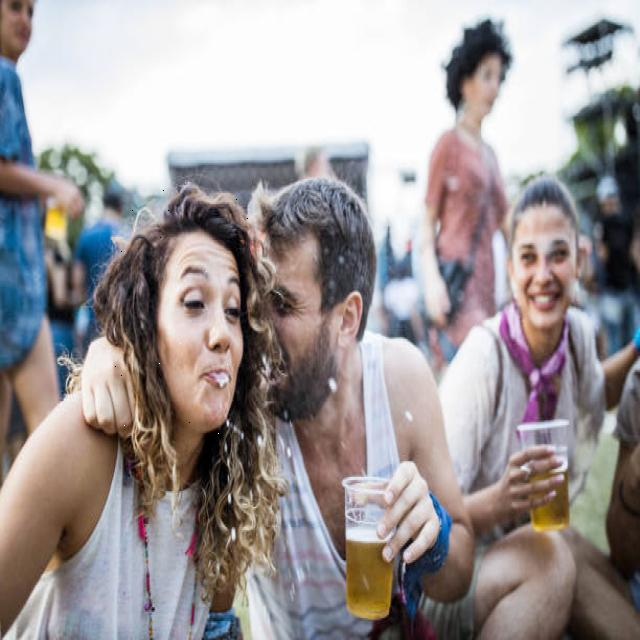Spitting: (113, 188, 261, 488)
